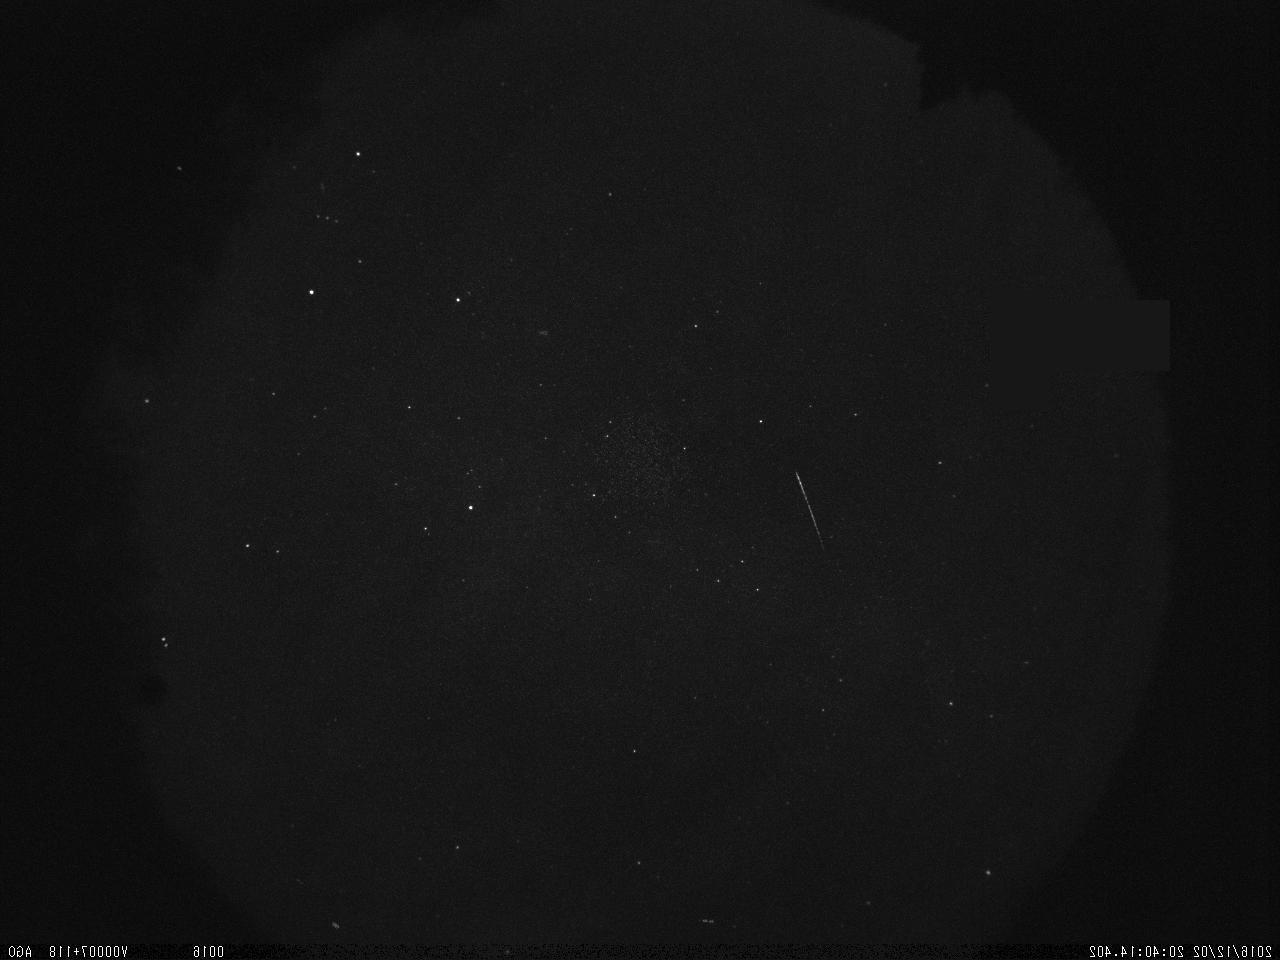meteor: (783, 464, 834, 562)
